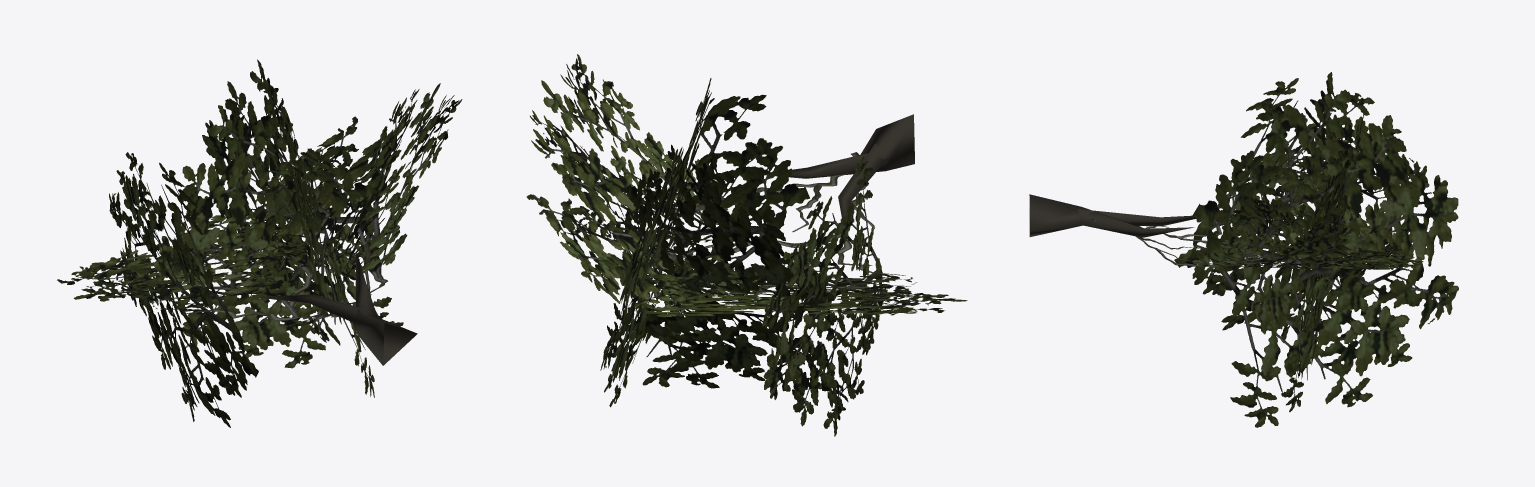
The model's file is MEP_Oak_01_Lod_02.fbx.
3 renders of one model, left to right at view 1: azimuth 30°, elevation 25°; view 2: azimuth 150°, elevation 25°; view 3: azimuth 270°, elevation 25°, orthographic. The views are drawn at different scales.
Parts seen in each view (by area): view 1: MEP_Oak_01_Lod_02; view 2: MEP_Oak_01_Lod_02; view 3: MEP_Oak_01_Lod_02.
Part boxes in pixels (x1,y1,x2,y2): MEP_Oak_01_Lod_02: [57, 59, 462, 427]; MEP_Oak_01_Lod_02: [526, 54, 967, 436]; MEP_Oak_01_Lod_02: [1029, 72, 1458, 427].
Size of the model in its own units: 15.48 by 14.31 by 15.65.
